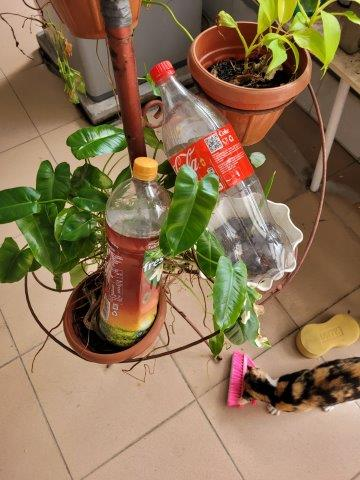botolplastik: (151, 61, 297, 285), (103, 158, 170, 345)
